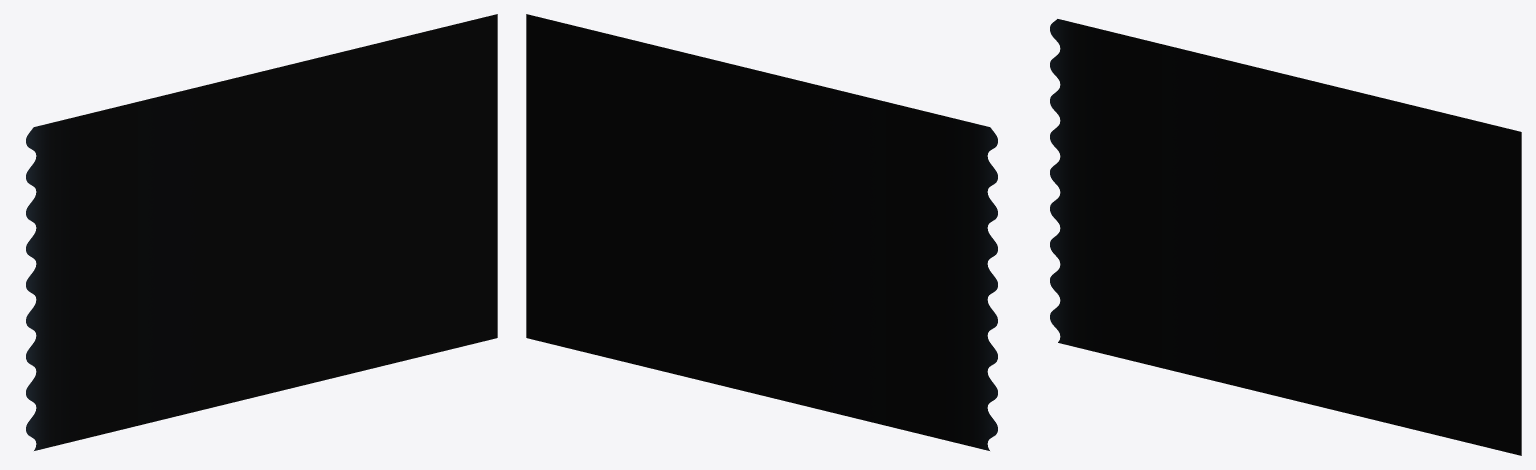
The model's file is End Level.FBX.
3 views of the same model, side by side, from view 1: azimuth 30°, elevation 25°; view 2: azimuth 150°, elevation 25°; view 3: azimuth 330°, elevation 25° (orthographic).
Visible parts, largest first — view 1: End Level; view 2: End Level; view 3: End Level.
Part boxes in pixels (x1=…): End Level: x1=26, y1=14, x2=497, y2=450; End Level: x1=526, y1=14, x2=997, y2=450; End Level: x1=1050, y1=19, x2=1521, y2=455.
Bounding box in the file's own units: 2699 × 0.000145 × 1728.
